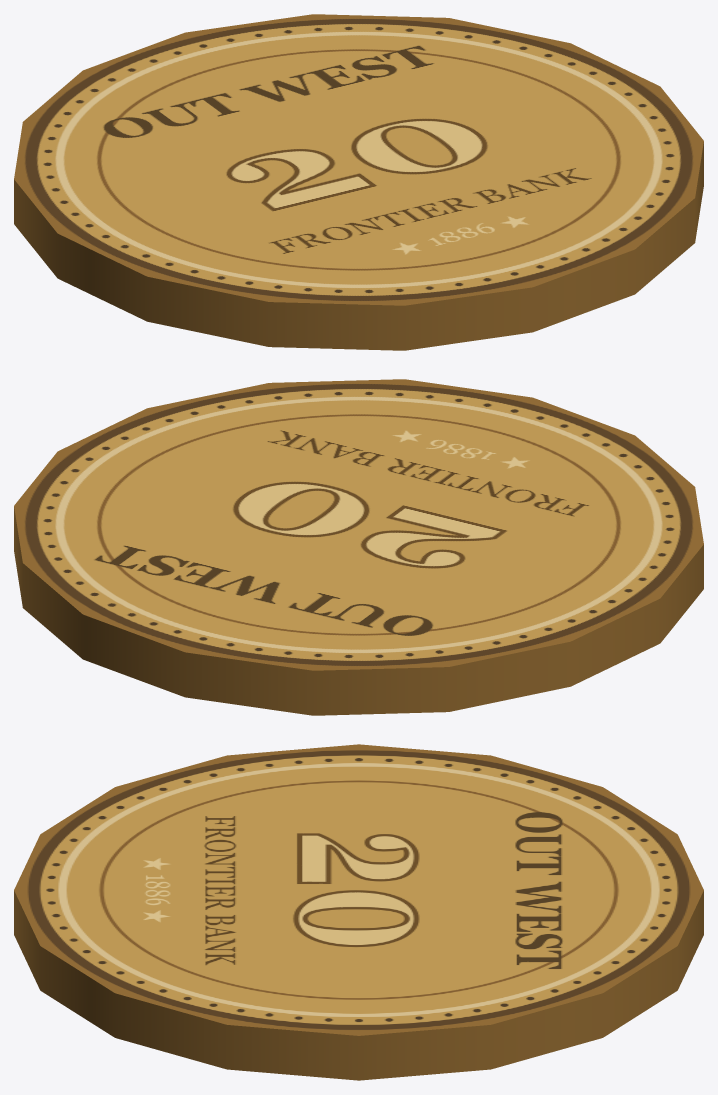
The model's file is coin.glb.
3 renders of one model, top to bottom at view 1: azimuth 30°, elevation 25°; view 2: azimuth 150°, elevation 25°; view 3: azimuth 270°, elevation 25°, orthographic.
Visible parts, largest first — view 1: Moving; view 2: Moving; view 3: Moving.
Boxes of the visible parts, left/top/right/bottom form: Moving: left=14, top=14, right=703, bottom=350; Moving: left=14, top=379, right=703, bottom=715; Moving: left=14, top=744, right=703, bottom=1080.
Size of the model in its own units: 0.07 by 0.005 by 0.07.
Materials: 1 (1 with a texture image).
